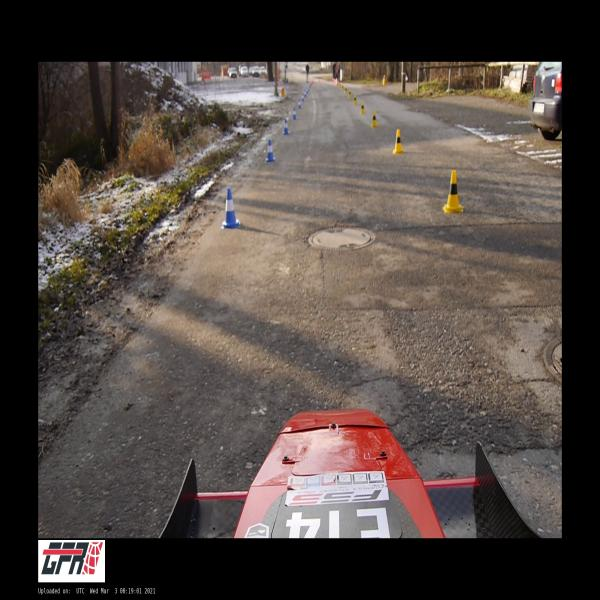blue_cone: (222, 188, 240, 229), (265, 139, 276, 162), (283, 119, 290, 134), (292, 107, 297, 120), (298, 100, 301, 109), (301, 94, 304, 102), (303, 91, 306, 97)
yellow_cone: (442, 170, 464, 213), (393, 129, 404, 154), (371, 111, 378, 127), (360, 101, 365, 114), (353, 95, 357, 105), (349, 90, 352, 98), (345, 88, 347, 93)
